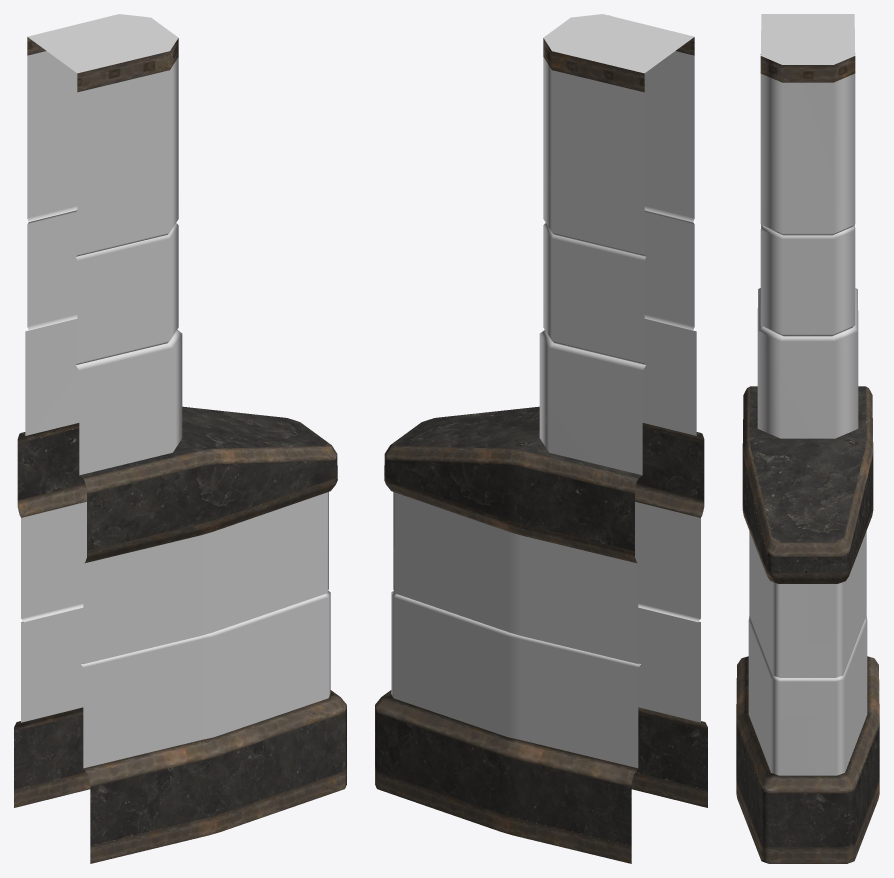
3 renders of one model, left to right at view 1: azimuth 30°, elevation 25°; view 2: azimuth 150°, elevation 25°; view 3: azimuth 270°, elevation 25°, orthographic. The views are drawn at different scales.
Parts seen in each view (by area): view 1: SM_Dowdun_Buttress_A_01_LOD0; view 2: SM_Dowdun_Buttress_A_01_LOD0; view 3: SM_Dowdun_Buttress_A_01_LOD0.
Boxes of the visible parts, x1=… form: SM_Dowdun_Buttress_A_01_LOD0: x1=14, y1=14, x2=346, y2=863; SM_Dowdun_Buttress_A_01_LOD0: x1=375, y1=14, x2=707, y2=863; SM_Dowdun_Buttress_A_01_LOD0: x1=736, y1=14, x2=879, y2=863.
Bounding box in the file's own units: 3.48 × 9.5 × 1.7.
3 materials, 2 textured.
